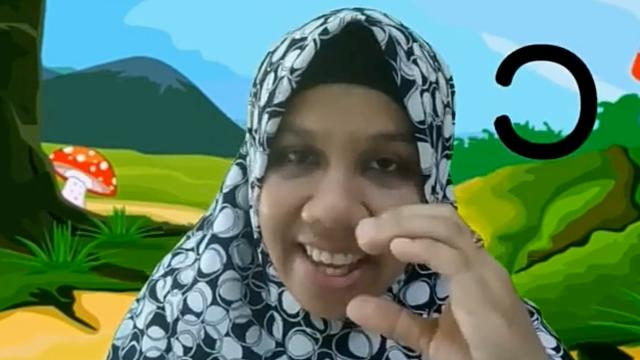C: (348, 204, 552, 360)
